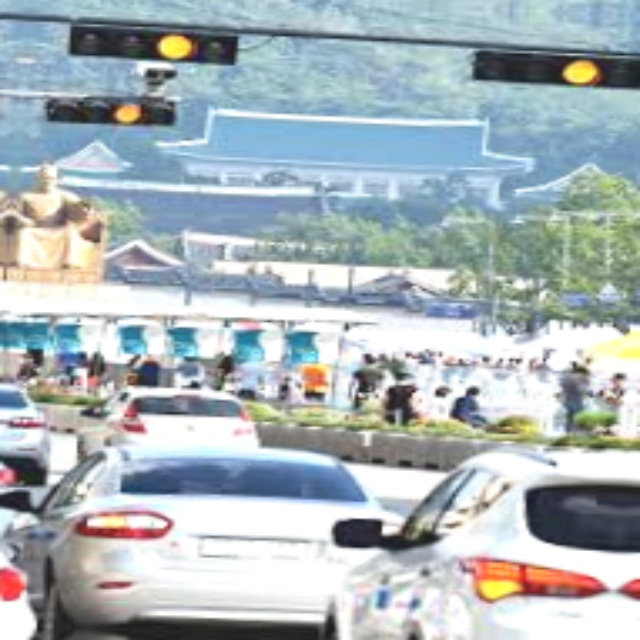yellow_light: (557, 58, 601, 86), (155, 33, 196, 58), (114, 103, 144, 122)
